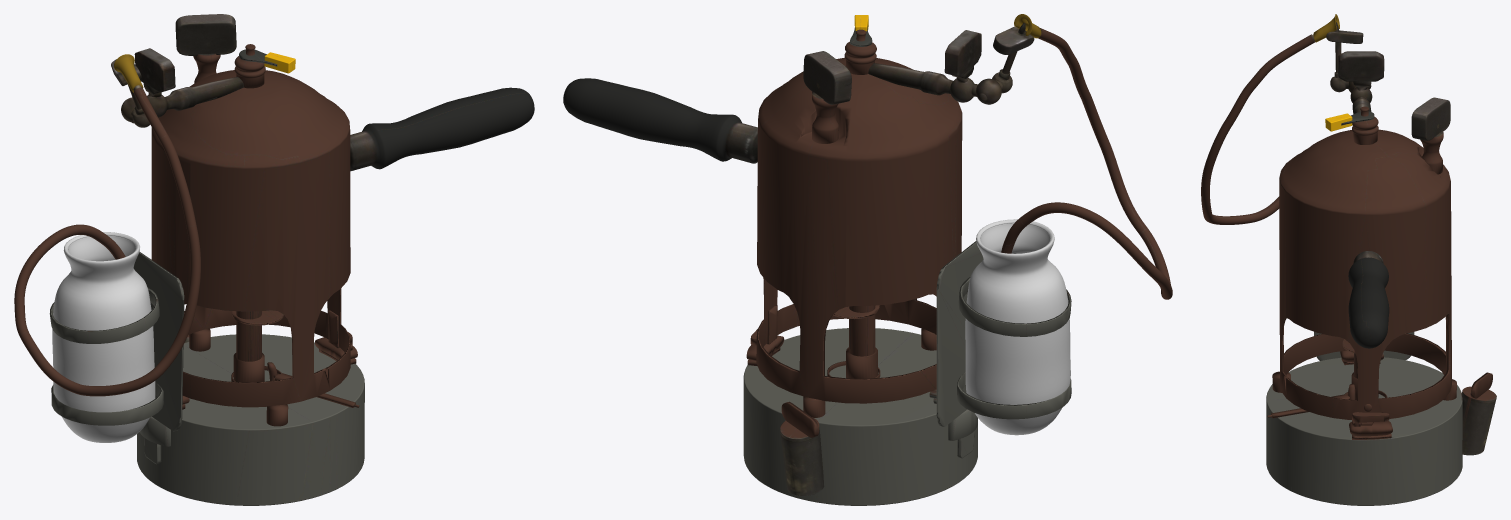
The model's file is Spray.fbx.
3 renders of one model, left to right at view 1: azimuth 30°, elevation 25°; view 2: azimuth 150°, elevation 25°; view 3: azimuth 270°, elevation 25°, orthographic. The views are drawn at different scales.
Visible parts, largest first — view 1: burner, Glass_Bottle_Circle.006; view 2: burner, Glass_Bottle_Circle.006; view 3: burner.
Boxes of the visible parts, <box> form: burner: <box>14,14,534,505</box>; Glass_Bottle_Circle.006: <box>52,232,155,442</box>; burner: <box>563,14,1172,505</box>; Glass_Bottle_Circle.006: <box>965,219,1070,435</box>; burner: <box>1201,14,1496,505</box>.
Size of the model in its own units: 4.22 by 3.34 by 2.29.
Materials: 2 (1 with a texture image).
